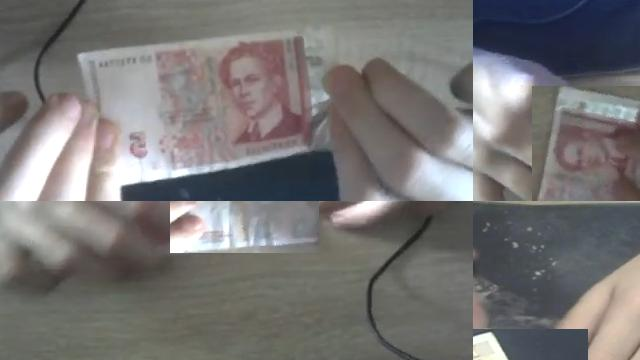5leva: (473, 69, 640, 201), (536, 86, 640, 201), (192, 201, 319, 253)
